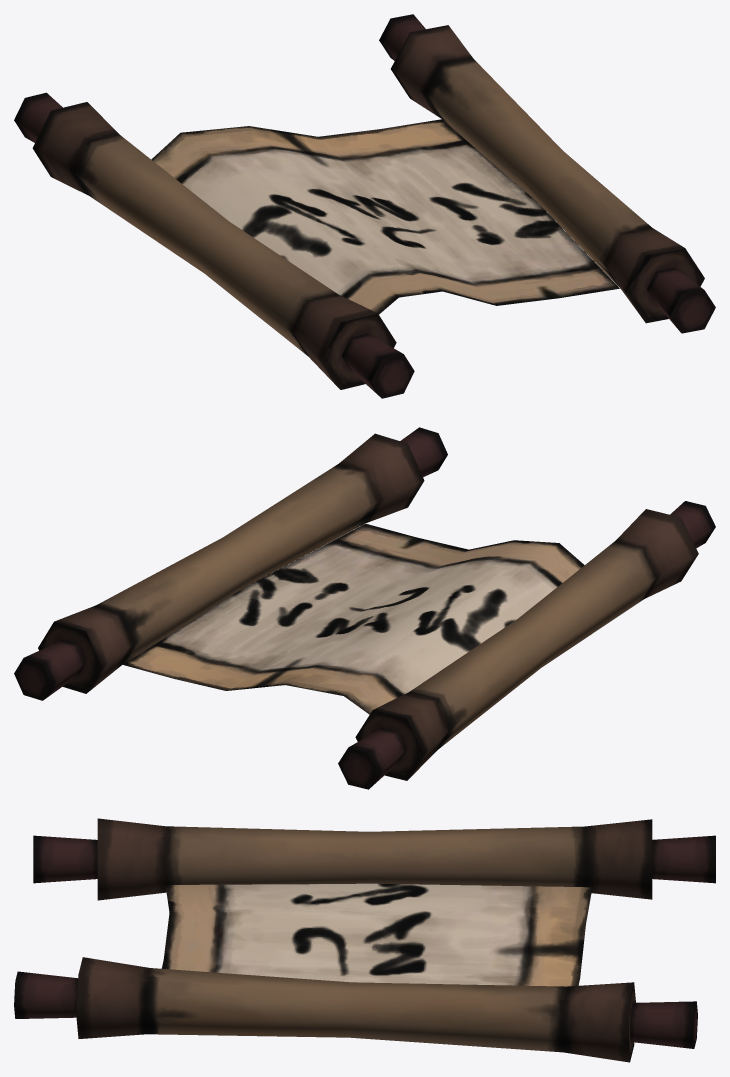
File: GAM_Scroll.FBX
3 views of the same model, one above another, from view 1: azimuth 30°, elevation 25°; view 2: azimuth 150°, elevation 25°; view 3: azimuth 270°, elevation 25° (orthographic). The views are drawn at different scales.
Visible parts, largest first — view 1: GAM_Scroll; view 2: GAM_Scroll; view 3: GAM_Scroll.
Part boxes in pixels (bbox=[...]): GAM_Scroll: bbox=[14, 14, 715, 398]; GAM_Scroll: bbox=[14, 427, 715, 789]; GAM_Scroll: bbox=[14, 818, 715, 1062].
Size of the model in its own units: 29.16 by 4.46 by 43.84.
Materials: 1 (1 with a texture image).
